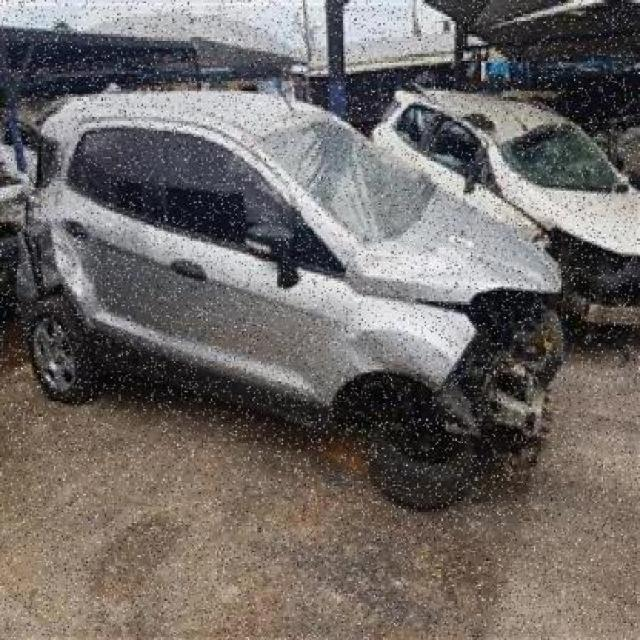Front-Windscreen-Damage: (509, 117, 629, 194)
bonnet-dent: (386, 194, 559, 305)
fender-dent: (316, 302, 472, 405)
quaterpanel-dent: (15, 180, 73, 308)
